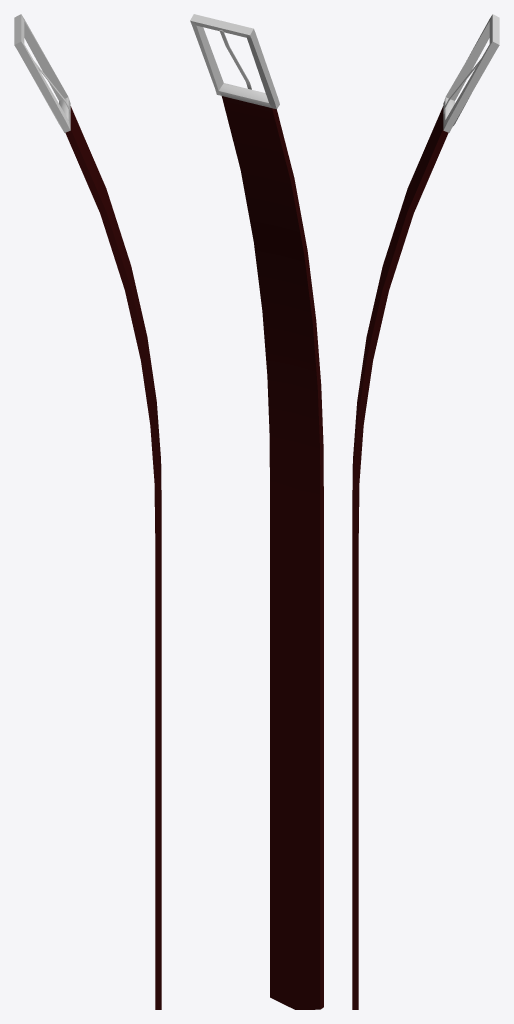
Rendered from CintoB (1).fbx.
3 renders of one model, left to right at view 1: azimuth 90°, elevation 25°; view 2: azimuth 150°, elevation 25°; view 3: azimuth 270°, elevation 25°, orthographic. The views are drawn at different scales.
Parts seen in each view (by area): view 1: Cinto_B; view 2: Cinto_B; view 3: Cinto_B.
Part boxes in pixels (left/top/right/bottom): Cinto_B: left=14, top=14, right=161, bottom=1009; Cinto_B: left=190, top=14, right=323, bottom=1009; Cinto_B: left=352, top=14, right=499, bottom=1009.
Bounding box in the file's own units: 4.52 × 74.83 × 10.25.
